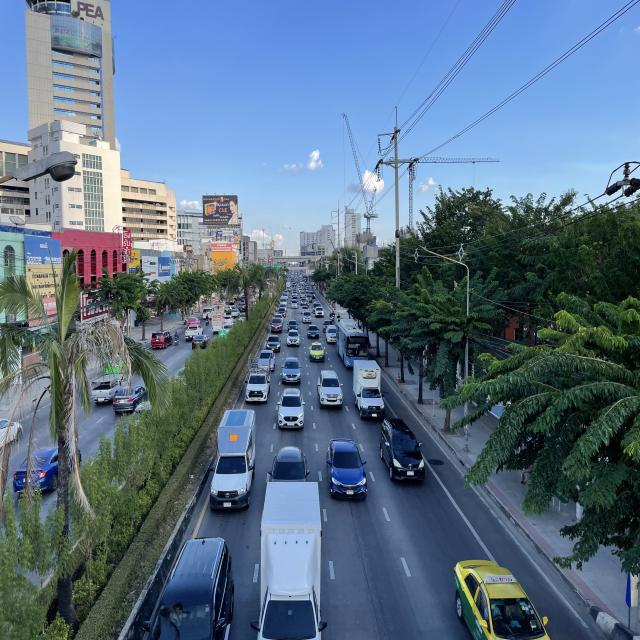bus: (335, 317, 371, 367)
car: (136, 530, 236, 640), (450, 553, 553, 640), (268, 446, 310, 485), (316, 369, 344, 410), (282, 356, 302, 384), (257, 349, 276, 371), (308, 340, 326, 362), (265, 334, 282, 352), (286, 329, 300, 347), (270, 317, 283, 333), (306, 324, 320, 338), (286, 318, 298, 332)
truck: (252, 481, 328, 640), (205, 408, 258, 512), (352, 359, 387, 421), (244, 353, 272, 403), (326, 324, 338, 344)
